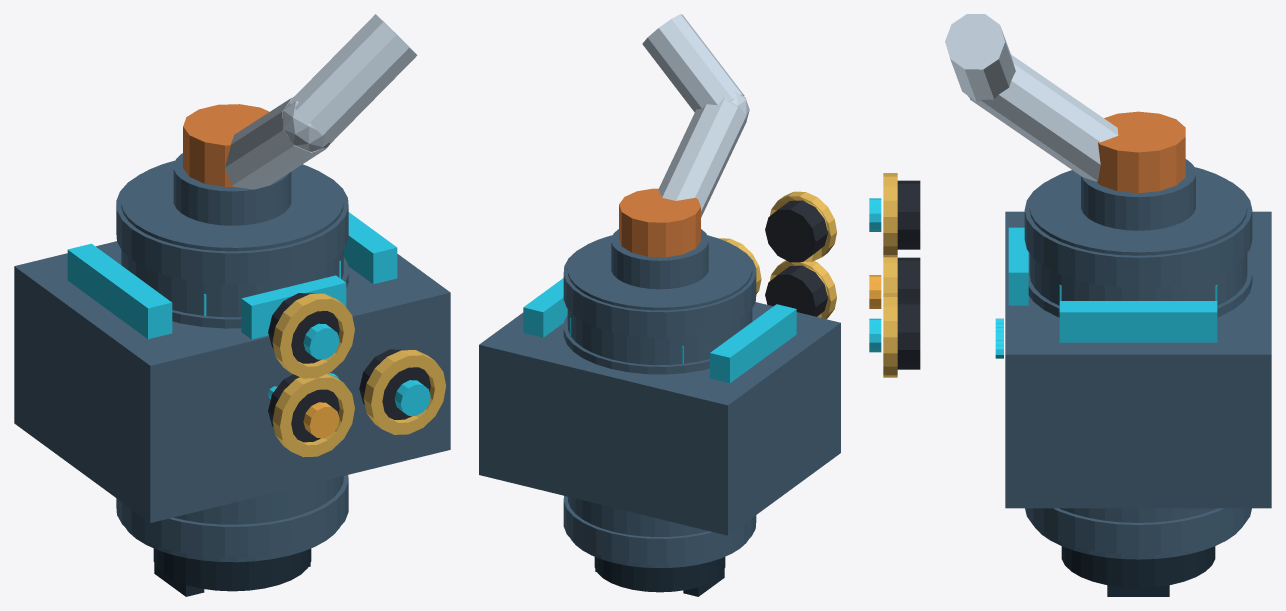
The model's file is 40_L82_DifferentialCurrentProbe.fbx.
3 renders of one model, left to right at view 1: azimuth 30°, elevation 25°; view 2: azimuth 150°, elevation 25°; view 3: azimuth 270°, elevation 25°, orthographic. The views are drawn at different scales.
Parts seen in each view (by area): view 1: DifferentialCurrentProbe, DifferentialCurrentProbe_Part_0026, DifferentialCurrentProbe_Part_0027, DifferentialCurrentProbe_Part_0031; view 2: DifferentialCurrentProbe, DifferentialCurrentProbe_Part_0026, DifferentialCurrentProbe_Part_0027, DifferentialCurrentProbe_Part_0031; view 3: DifferentialCurrentProbe, DifferentialCurrentProbe_Part_0026, DifferentialCurrentProbe_Part_0031.
Part boxes in pixels (x1=…): DifferentialCurrentProbe: x1=116, y1=14, x2=445, y2=596; DifferentialCurrentProbe_Part_0026: x1=14, y1=241, x2=450, y2=522; DifferentialCurrentProbe_Part_0027: x1=67, y1=243, x2=172, y2=339; DifferentialCurrentProbe_Part_0031: x1=343, y1=212, x2=397, y2=284; DifferentialCurrentProbe: x1=563, y1=14, x2=836, y2=596; DifferentialCurrentProbe_Part_0026: x1=479, y1=302, x2=840, y2=535; DifferentialCurrentProbe_Part_0027: x1=710, y1=304, x2=796, y2=383; DifferentialCurrentProbe_Part_0031: x1=523, y1=278, x2=567, y2=337; DifferentialCurrentProbe: x1=869, y1=14, x2=1252, y2=596; DifferentialCurrentProbe_Part_0026: x1=1005, y1=211, x2=1271, y2=508; DifferentialCurrentProbe_Part_0031: x1=1059, y1=301, x2=1217, y2=342.
Size of the model in its own units: 56 by 106 by 66.47.
